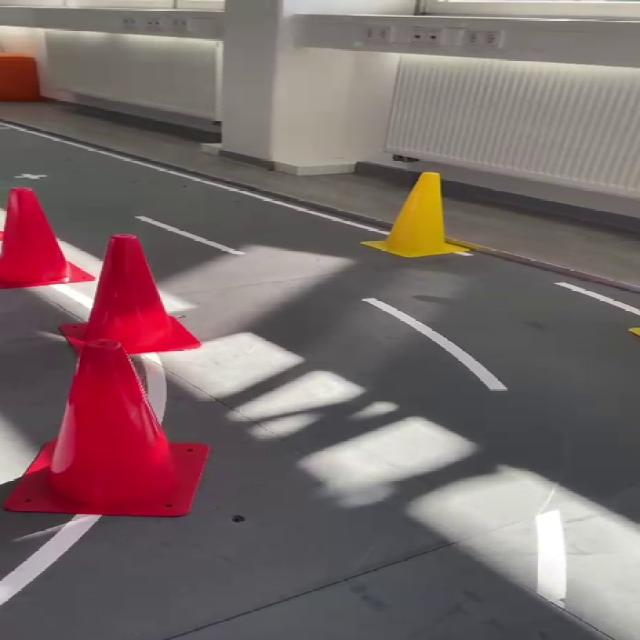Cone-red: (4, 235, 208, 516), (0, 188, 94, 288)
Cones-yellow: (361, 172, 479, 258)
